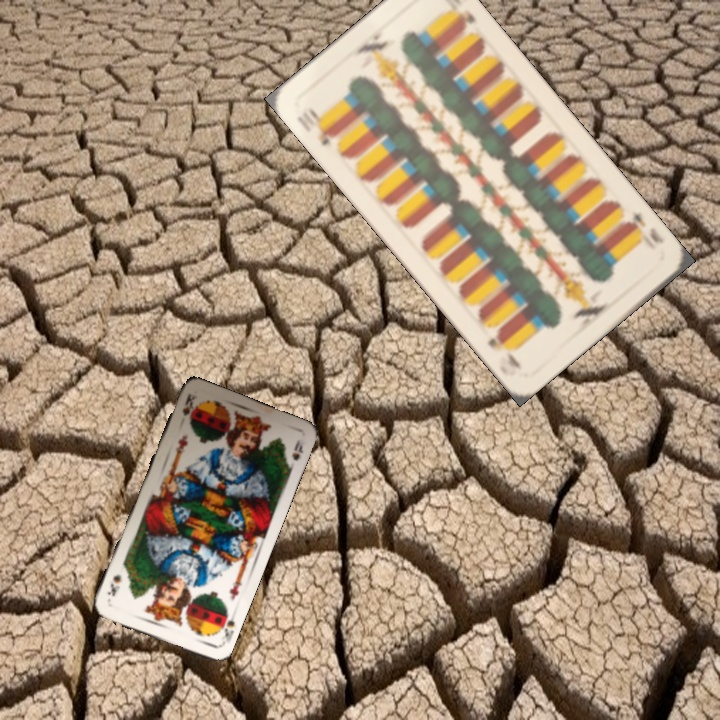E10: (292, 103, 339, 149), (618, 207, 667, 246)
SK: (213, 607, 237, 649), (178, 390, 198, 418)
